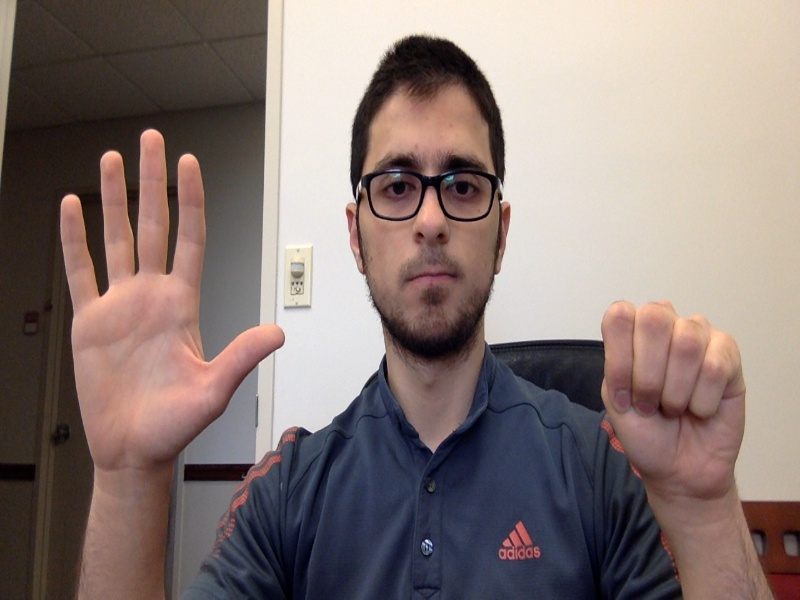0-hand: (602, 299, 745, 498)
5-hand: (59, 129, 285, 464)
